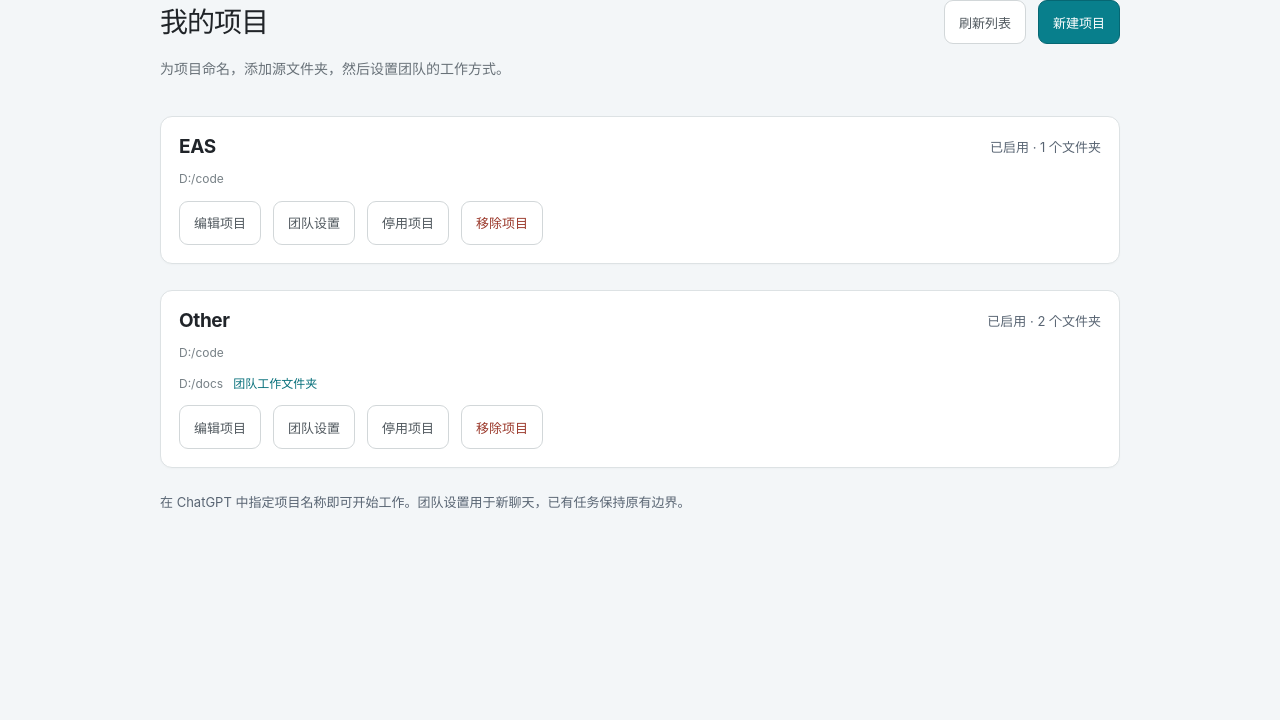
Test case: confirms removal and only changes the named catalog, preserving other project grants
Click the button "移除项目" below "EAS" at (502, 223), box [461,201,543,245]
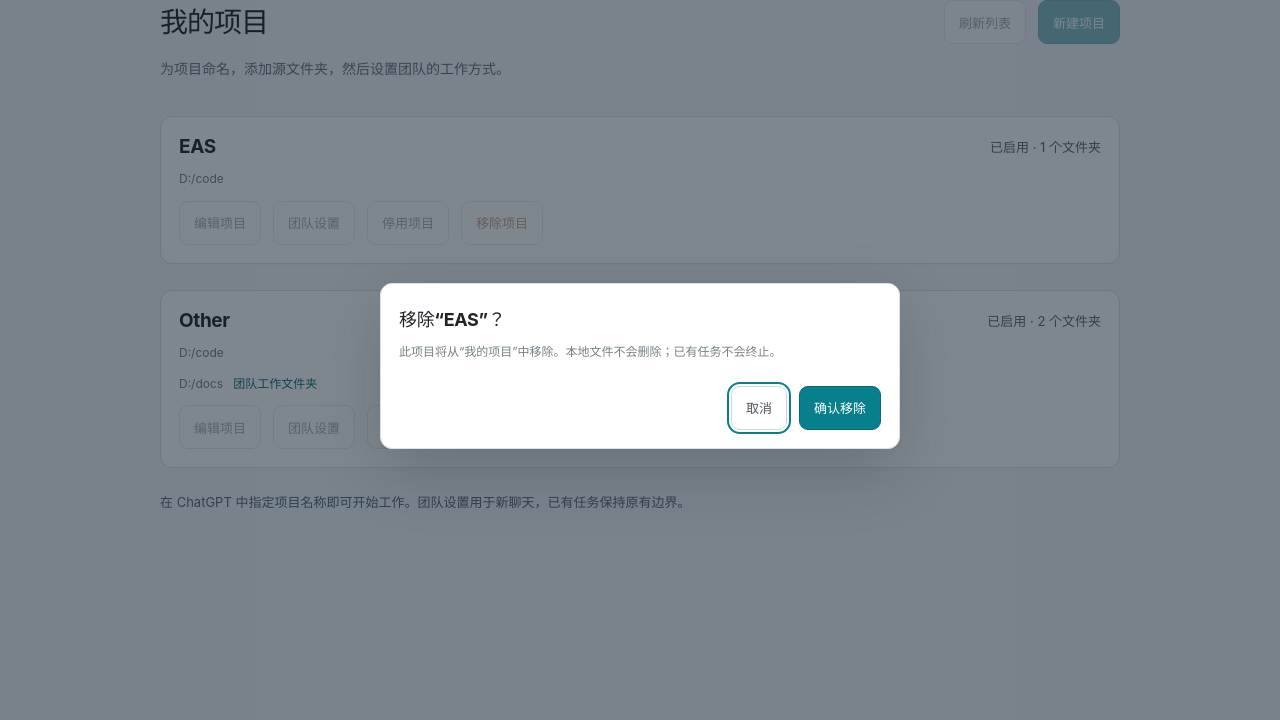
Result: the dialog shows "本地文件不会删除" at [399,344,782,359]
Click the button "取消" at (759, 408), box [731,386,787,430]
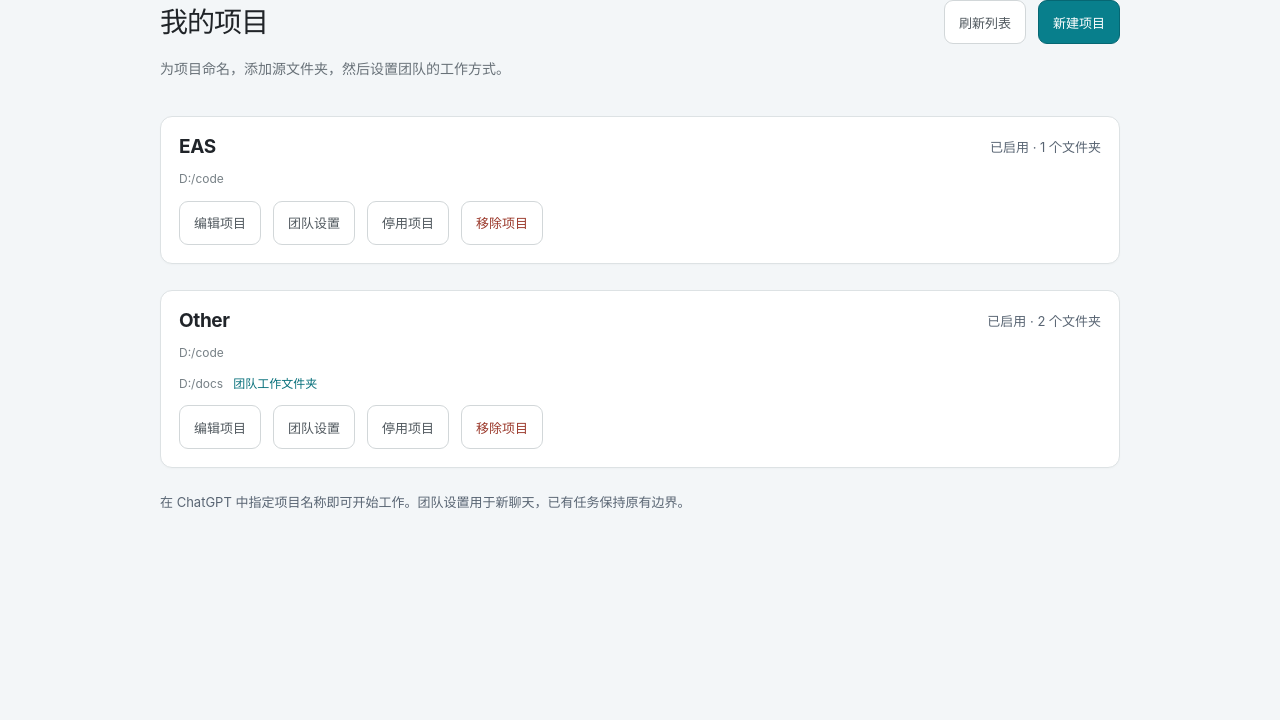
Click the button "移除项目" below "EAS" at (502, 223), box [461,201,543,245]
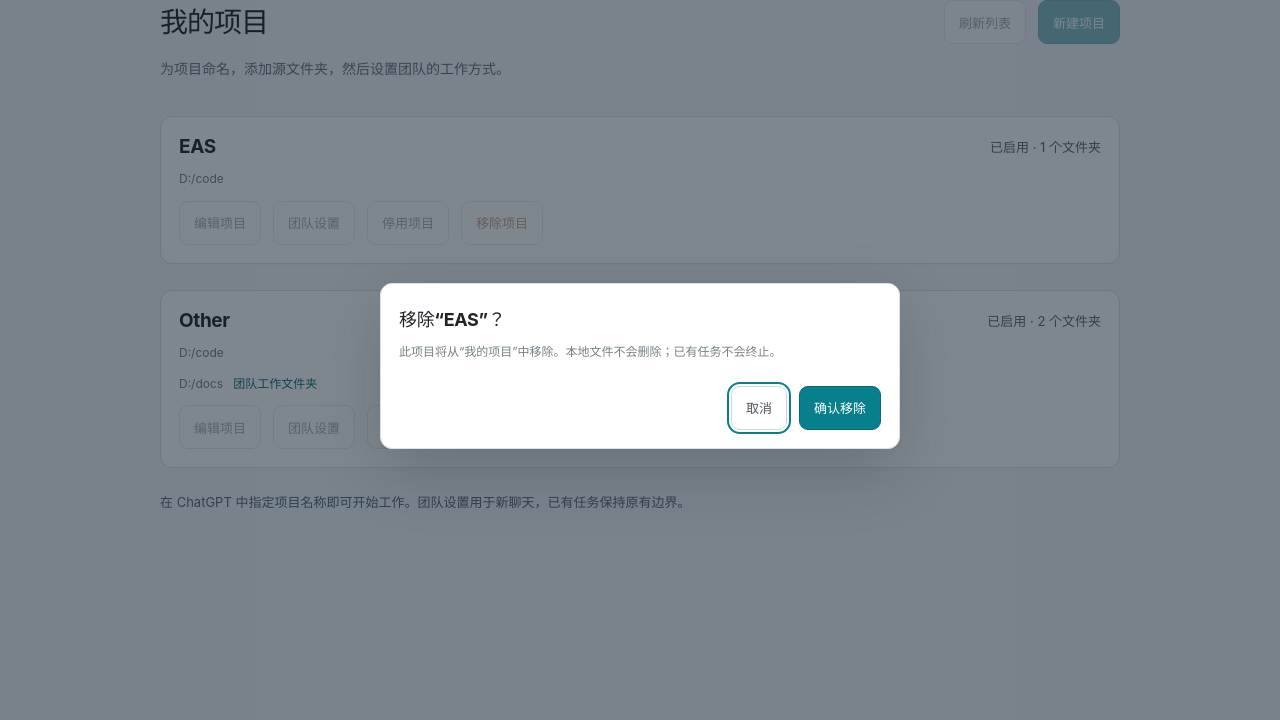
Click the button "确认移除" at (840, 408), box [799,386,881,430]
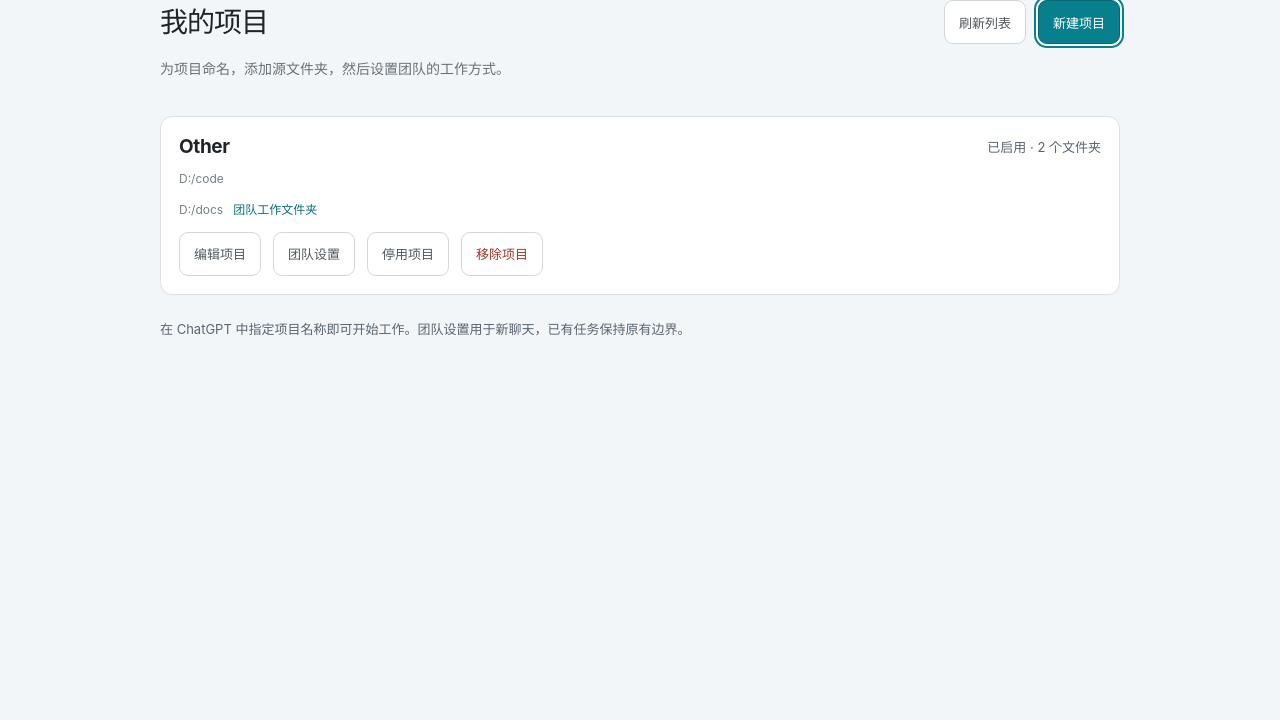
Result: the heading "EAS" is gone
